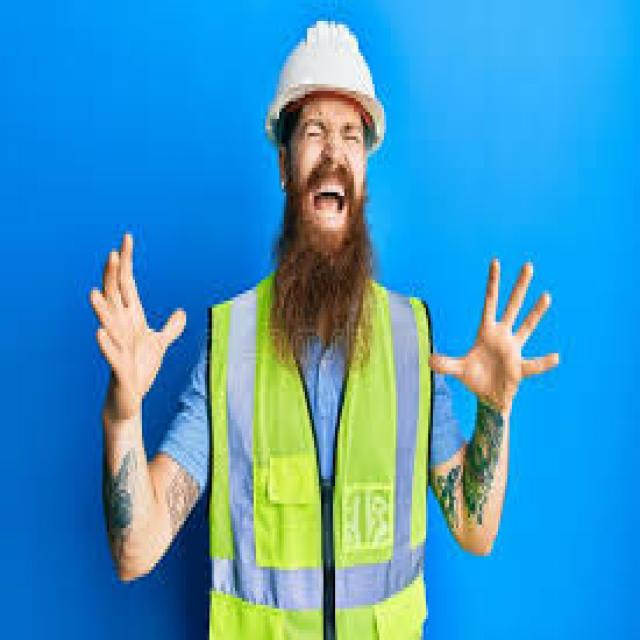Reflective-Jacket: (198, 273, 444, 636)
Safety-Helmet: (263, 14, 389, 150)
